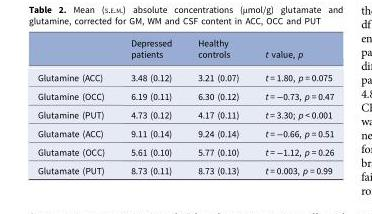table: (36, 37, 333, 175)
table column: (251, 37, 333, 175), (36, 37, 117, 175), (117, 37, 184, 175), (184, 37, 251, 175)
table column header: (36, 37, 333, 65)
table row: (36, 37, 333, 65), (36, 65, 333, 86), (36, 86, 333, 105), (36, 123, 333, 142), (36, 142, 333, 161), (36, 105, 333, 123), (36, 161, 333, 175)
